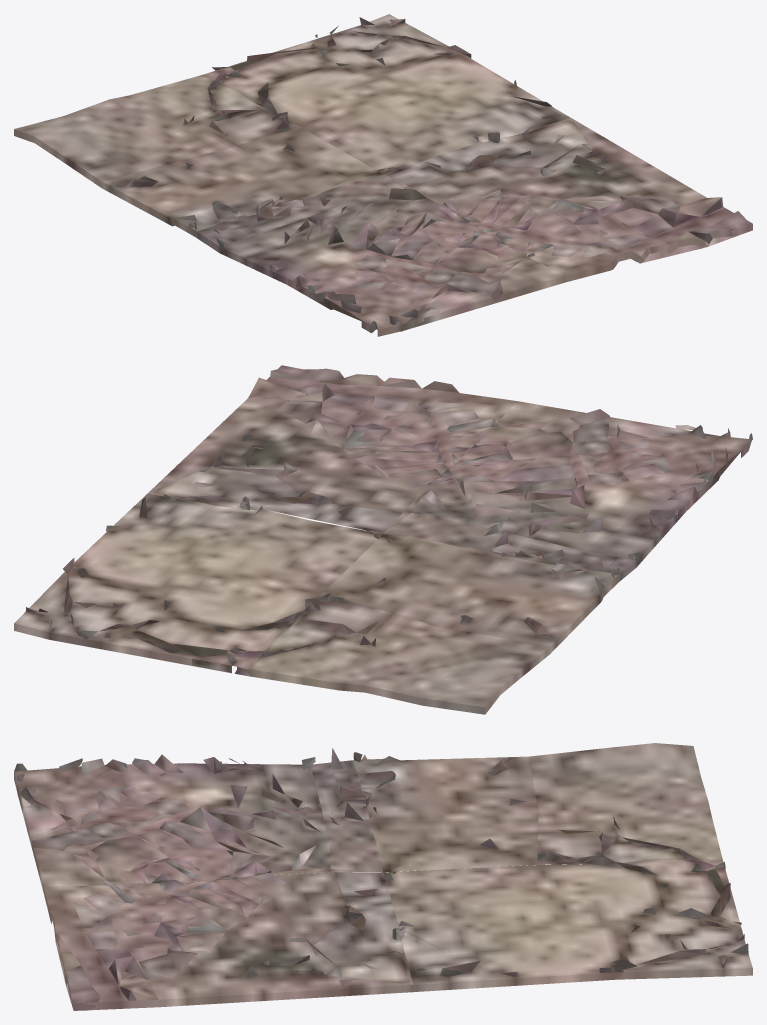
3 renders of one model, top to bottom at view 1: azimuth 30°, elevation 25°; view 2: azimuth 150°, elevation 25°; view 3: azimuth 270°, elevation 25°, orthographic. The views are drawn at different scales.
Parts seen in each view (by area): view 1: Mesh_0; view 2: Mesh_0; view 3: Mesh_0.
Boxes of the visible parts, x1=… form: Mesh_0: x1=14, y1=14, x2=752, y2=336; Mesh_0: x1=14, y1=365, x2=752, y2=714; Mesh_0: x1=14, y1=743, x2=752, y2=1010.
Size of the model in its own units: 1065 by 79.03 by 1318.
1 material, 1 textured.
